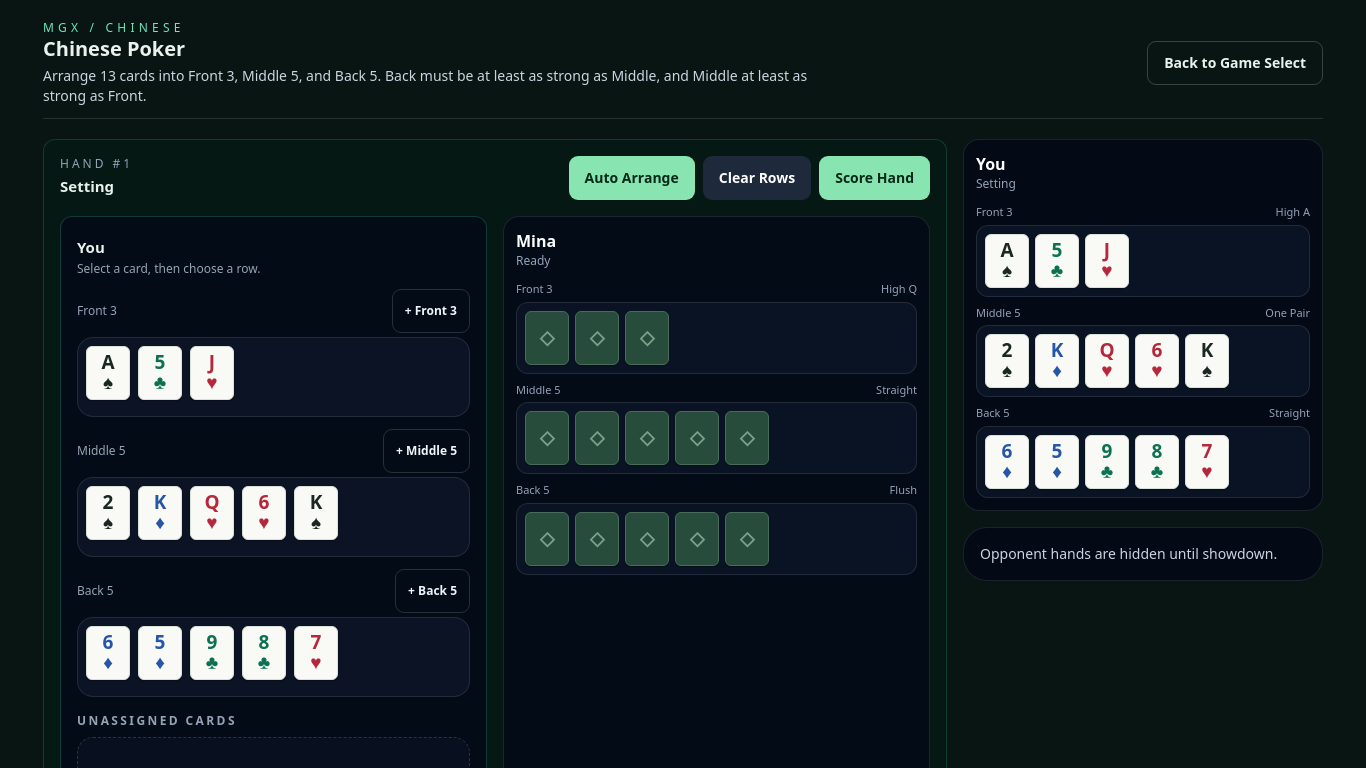
Test: ChinesePokerGameScreen › does not duplicate the row-set history event after auto arrange
What coordinates should you click on to do the following:
click the button "Auto Arrange"
I would click on:
 (632, 178)
Its box is [569, 156, 695, 200].
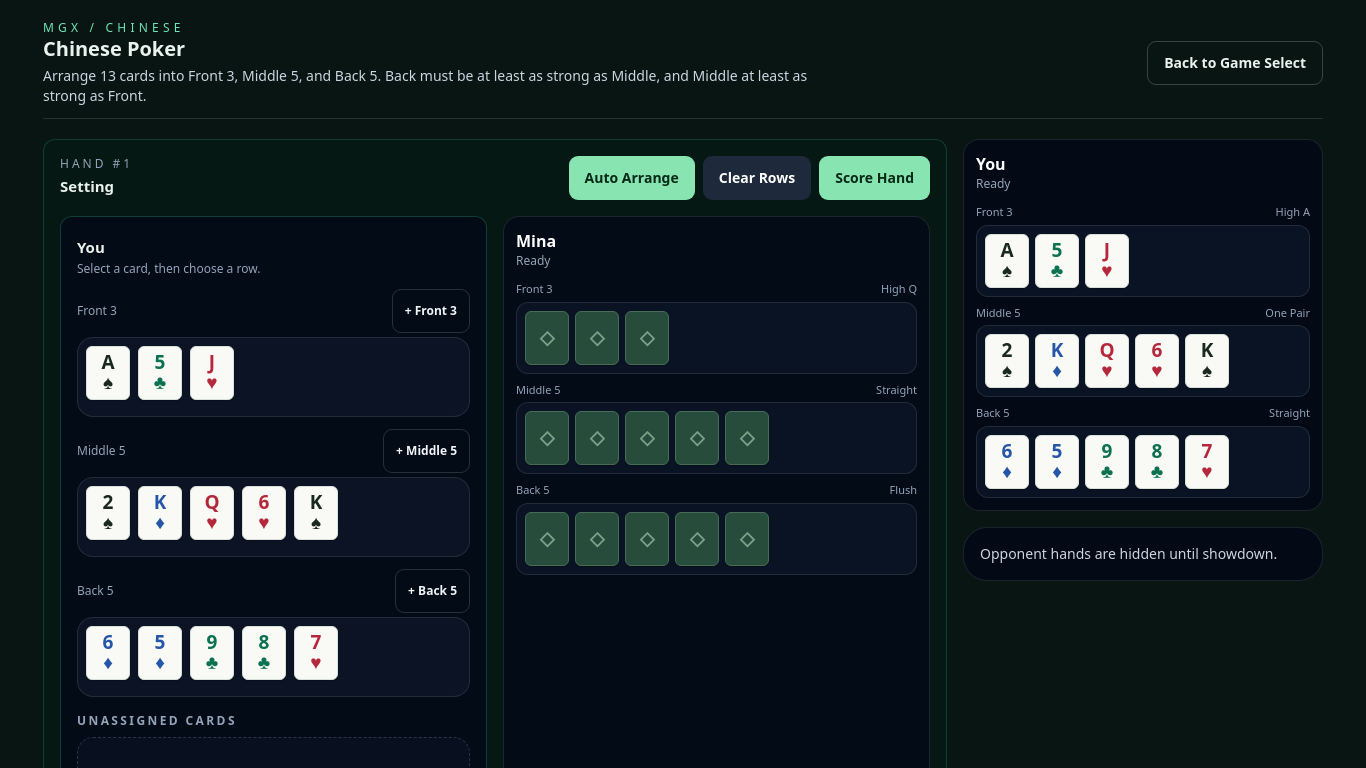
What coordinates should you click on to do the following:
click the button with test id "chinese-submit"
I would click on:
 (875, 178)
Its box is [819, 156, 930, 200].
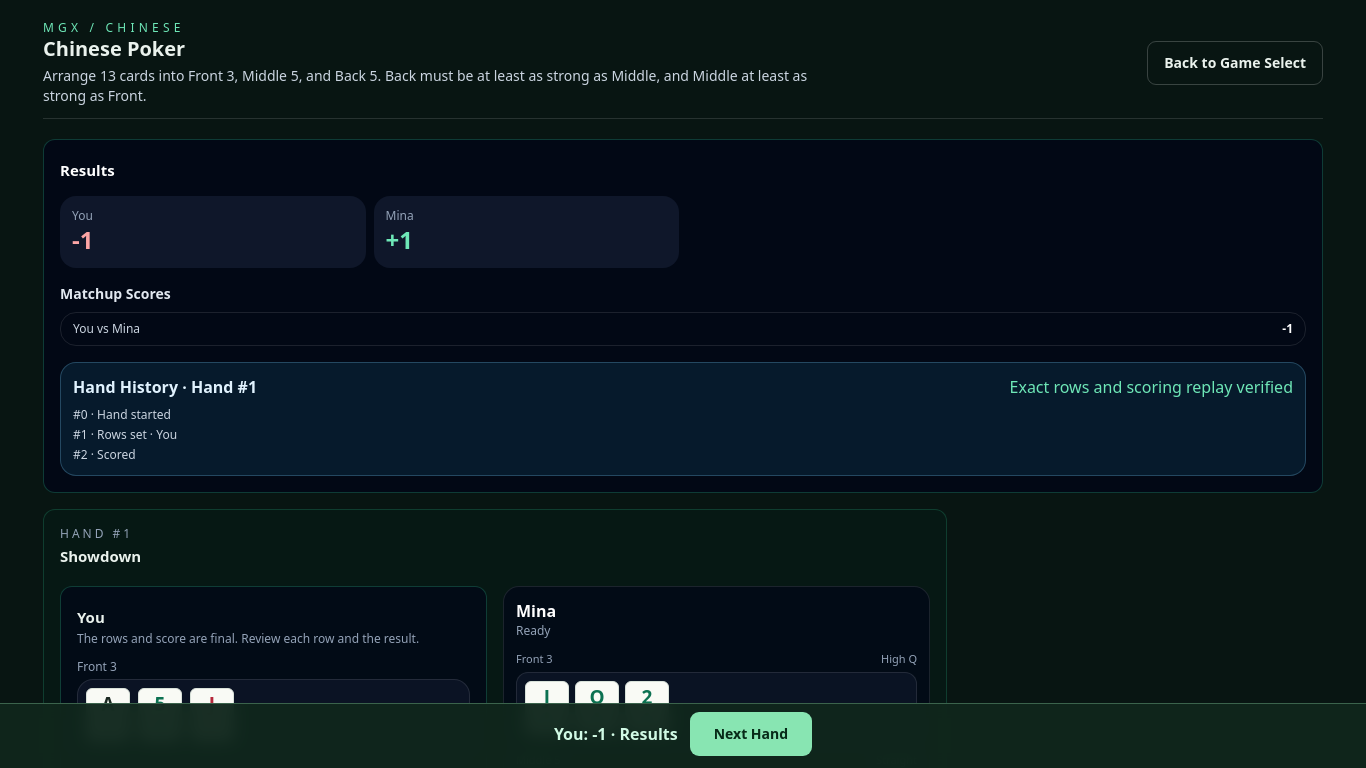
Result: the text with test id "chinese-replay-integrity" shows "verified" at [1010, 376, 1293, 398]
